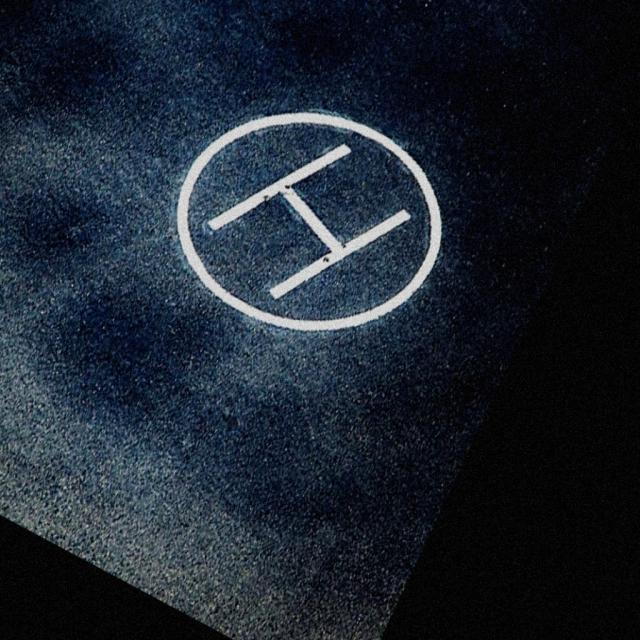helipad: (172, 110, 444, 334)
